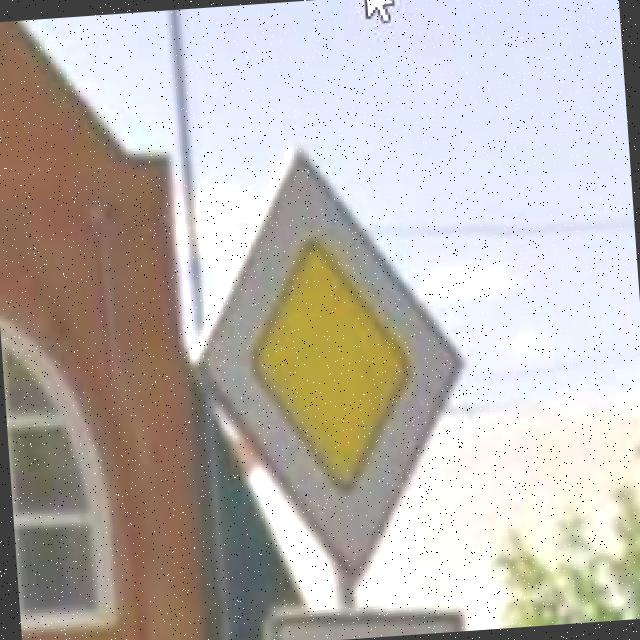Droga z pierwszenstwem: (185, 135, 478, 589)
